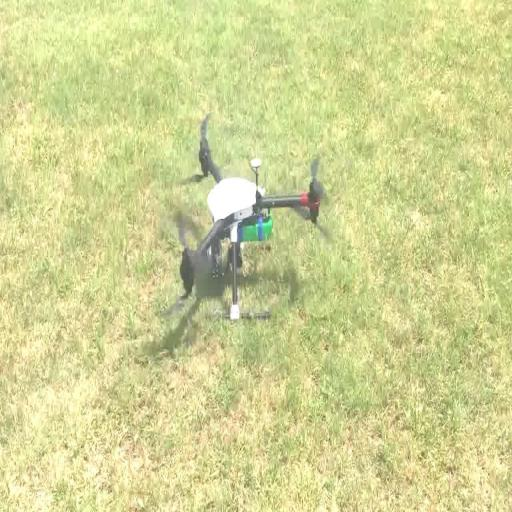drone: (155, 108, 333, 322)
